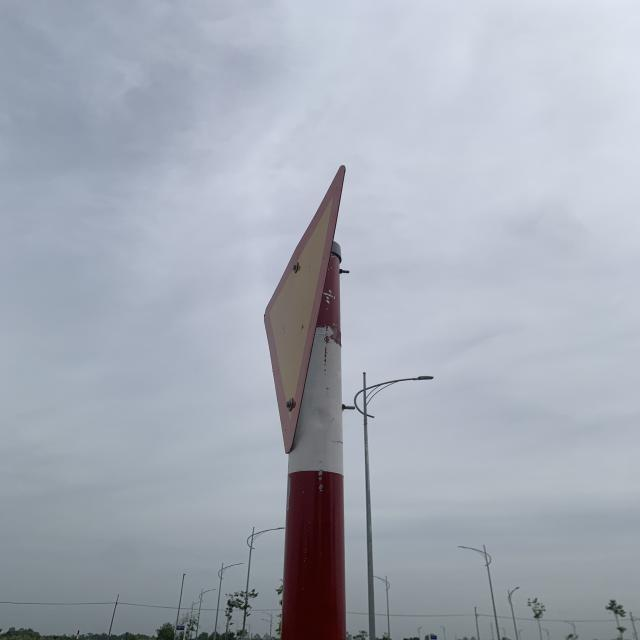Gioi_Han_Toc_Do_25: (260, 164, 348, 458)
